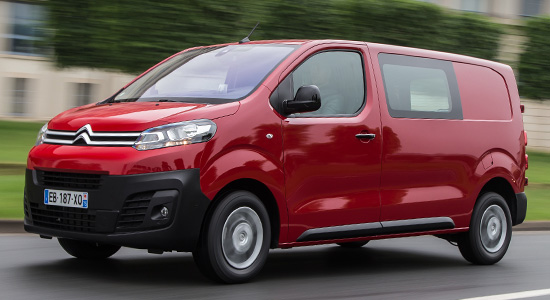van: (23, 38, 529, 281)
